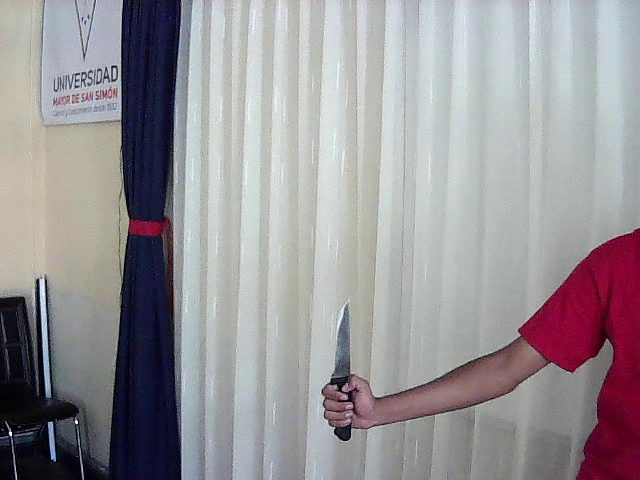cuchillo: (318, 293, 362, 414)
